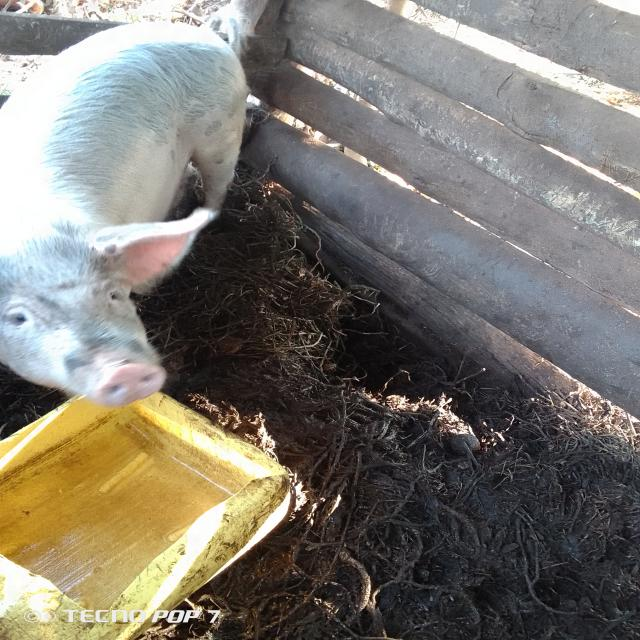pig: (0, 0, 298, 422)
